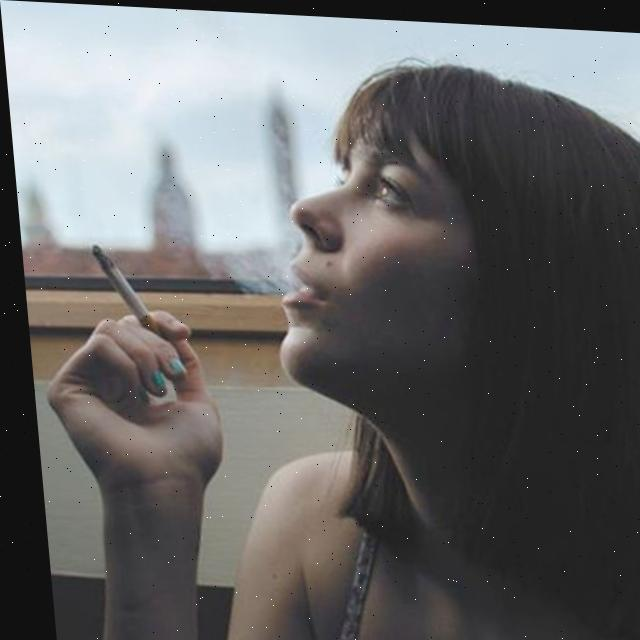cigarette: (86, 243, 154, 337)
